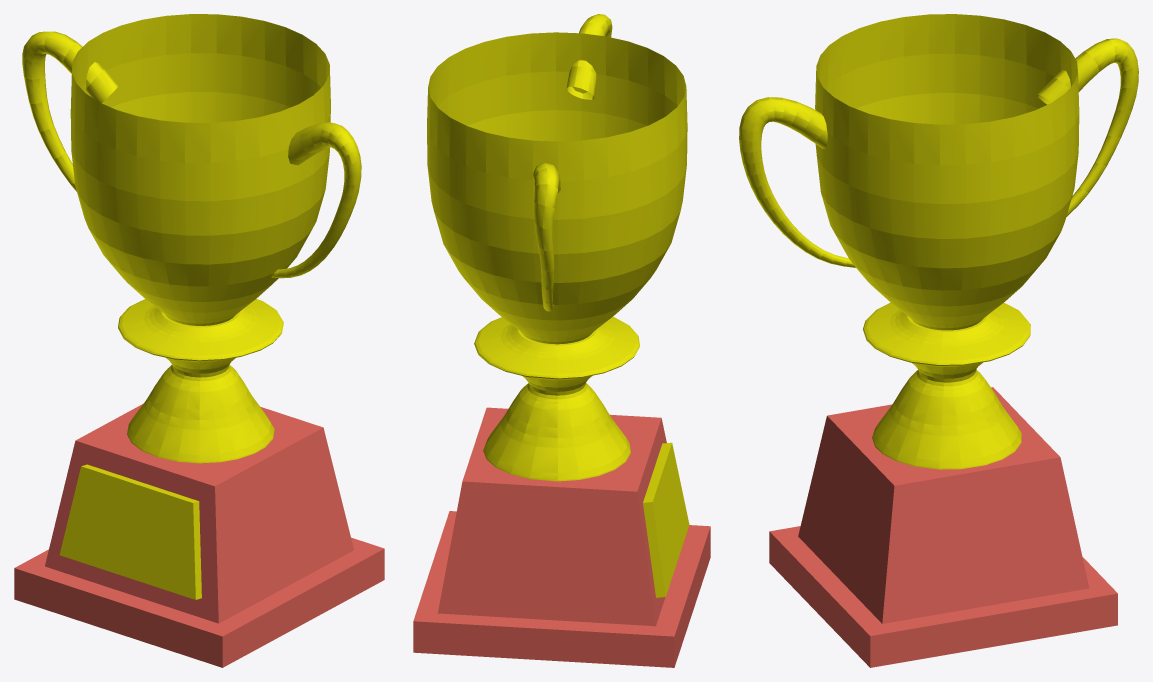
Rendered from trophy.fbx.
The picture shows the model from 3 angles, left to right: view 1: azimuth 30°, elevation 25°; view 2: azimuth 150°, elevation 25°; view 3: azimuth 270°, elevation 25°; orthographic projection.
Visible parts, largest first — view 1: torophy; view 2: torophy; view 3: torophy.
Boxes of the visible parts, left/top/right/bottom form: torophy: left=14, top=14, right=384, bottom=667; torophy: left=413, top=14, right=710, bottom=667; torophy: left=739, top=14, right=1138, bottom=667.
Bounding box in the file's own units: 1.94 × 3.24 × 2.23.
